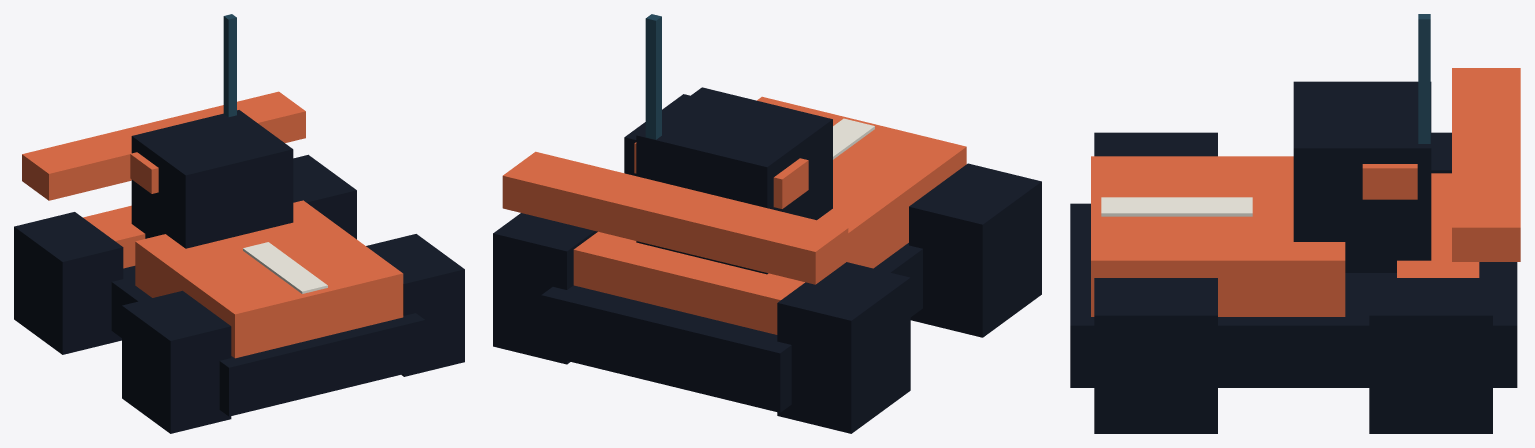
Rendered from kart-4.glb.
3 views of the same model, side by side, from view 1: azimuth 30°, elevation 25°; view 2: azimuth 150°, elevation 25°; view 3: azimuth 270°, elevation 25° (orthographic). The views are drawn at different scales.
Visible parts, largest first — view 1: track-part-3, track-part-1, track-part-2, track-part-0; view 2: track-part-3, track-part-1, track-part-0, track-part-2; view 3: track-part-3, track-part-1, track-part-2, track-part-0.
Part boxes in pixels (x1,y1,x2,y2): track-part-3: (14, 110, 464, 433); track-part-1: (22, 91, 403, 358); track-part-2: (243, 242, 327, 293); track-part-0: (223, 14, 236, 117); track-part-3: (493, 87, 1041, 433); track-part-1: (502, 96, 966, 334); track-part-0: (645, 14, 661, 139); track-part-2: (833, 118, 874, 159); track-part-3: (1070, 81, 1517, 433); track-part-1: (1091, 68, 1520, 316); track-part-2: (1101, 197, 1252, 216); track-part-0: (1418, 14, 1430, 143).
Size of the model in its own units: 0.63 by 0.565 by 0.655.
